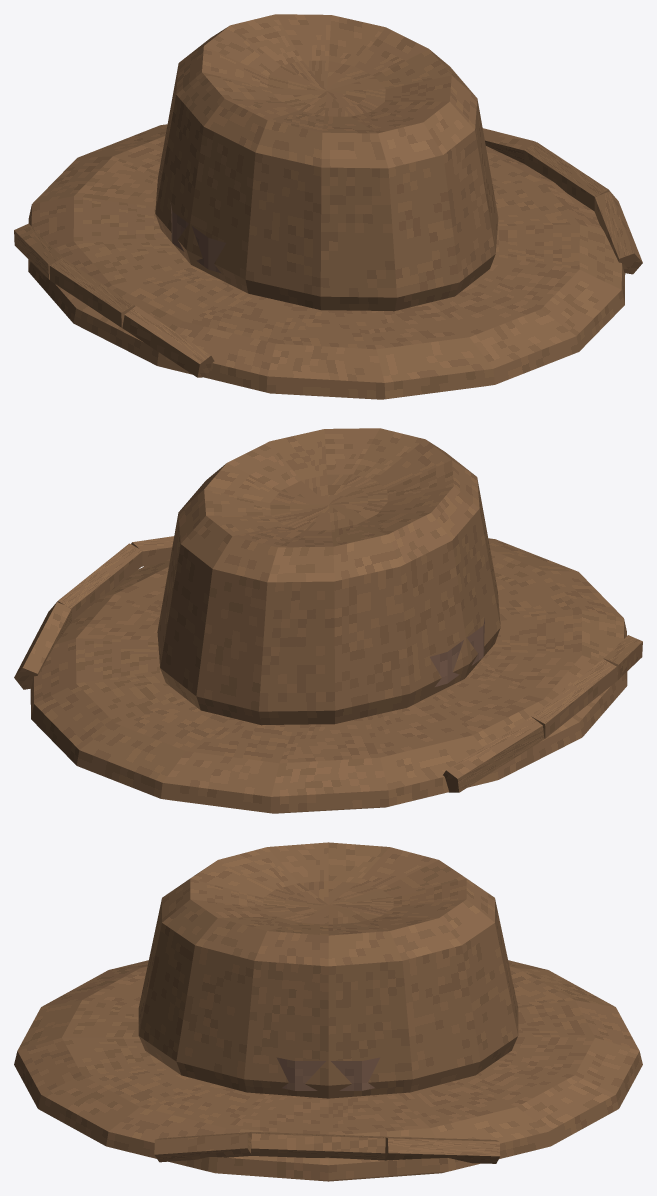
The model's file is cowboy_hat.glb.
The picture shows the model from 3 angles, top to bottom: view 1: azimuth 30°, elevation 25°; view 2: azimuth 150°, elevation 25°; view 3: azimuth 270°, elevation 25°; orthographic projection. The views are drawn at different scales.
Visible parts, largest first — view 1: block_pinched crown, block_wide western brim, block_rolled side brim 2 (×2), block_rolled side brim 1 (×2), block_rolled side brim 0 (×2), block_leather hatband; view 2: block_pinched crown, block_wide western brim, block_rolled side brim 0 (×2), block_rolled side brim 1 (×2), block_rolled side brim 2 (×2), block_leather hatband; view 3: block_pinched crown, block_wide western brim, block_rolled side brim 1, block_rolled side brim 0, block_rolled side brim 2, block_leather hatband.
Part boxes in pixels (bbox=[...]): block_pinched crown: bbox=[155, 14, 498, 311]; block_wide western brim: bbox=[28, 124, 625, 399]; block_rolled side brim 2 (×2): bbox=[122, 191, 642, 377]; block_rolled side brim 1 (×2): bbox=[49, 142, 614, 327]; block_rolled side brim 0 (×2): bbox=[14, 128, 535, 279]; block_leather hatband: bbox=[170, 203, 225, 272]; block_pinched crown: bbox=[157, 428, 500, 725]; block_wide western brim: bbox=[30, 538, 627, 813]; block_rolled side brim 0 (×2): bbox=[14, 602, 544, 792]; block_rolled side brim 1 (×2): bbox=[54, 543, 617, 738]; block_rolled side brim 2 (×2): bbox=[131, 536, 642, 680]; block_leather hatband: bbox=[430, 618, 484, 686]; block_pinched crown: bbox=[138, 842, 518, 1098]; block_wide western brim: bbox=[14, 960, 642, 1181]; block_rolled side brim 1: bbox=[251, 1132, 385, 1160]; block_rolled side brim 0: bbox=[384, 1136, 500, 1163]; block_rolled side brim 2: bbox=[154, 1132, 252, 1162]; block_leather hatband: bbox=[276, 1057, 380, 1090].
Bounding box in the file's own units: 0.2761 × 0.1023 × 0.3175.
1 material, 1 textured.
